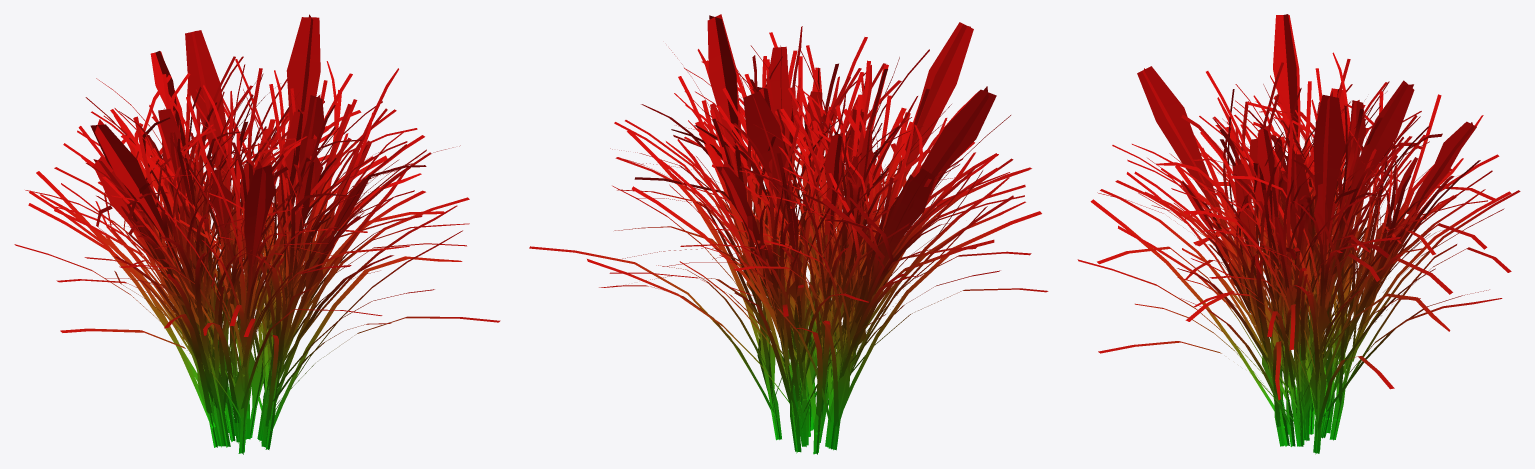
File: Basket Grass_LOD2_Var4_slfpffjr.fbx
3 views of the same model, side by side, from view 1: azimuth 30°, elevation 25°; view 2: azimuth 150°, elevation 25°; view 3: azimuth 270°, elevation 25° (orthographic). The views are drawn at different scales.
Parts seen in each view (by area): view 1: _7b59_Var4_LOD2; view 2: _7b59_Var4_LOD2; view 3: _7b59_Var4_LOD2.
Boxes of the visible parts, x1=… form: _7b59_Var4_LOD2: x1=14, y1=14, x2=500, y2=454; _7b59_Var4_LOD2: x1=529, y1=14, x2=1048, y2=454; _7b59_Var4_LOD2: x1=1077, y1=14, x2=1520, y2=454.
Size of the model in its own units: 79.63 by 70.3 by 73.58.
